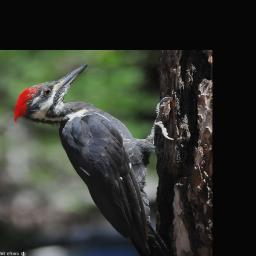Woodpecker: (12, 63, 174, 256)
